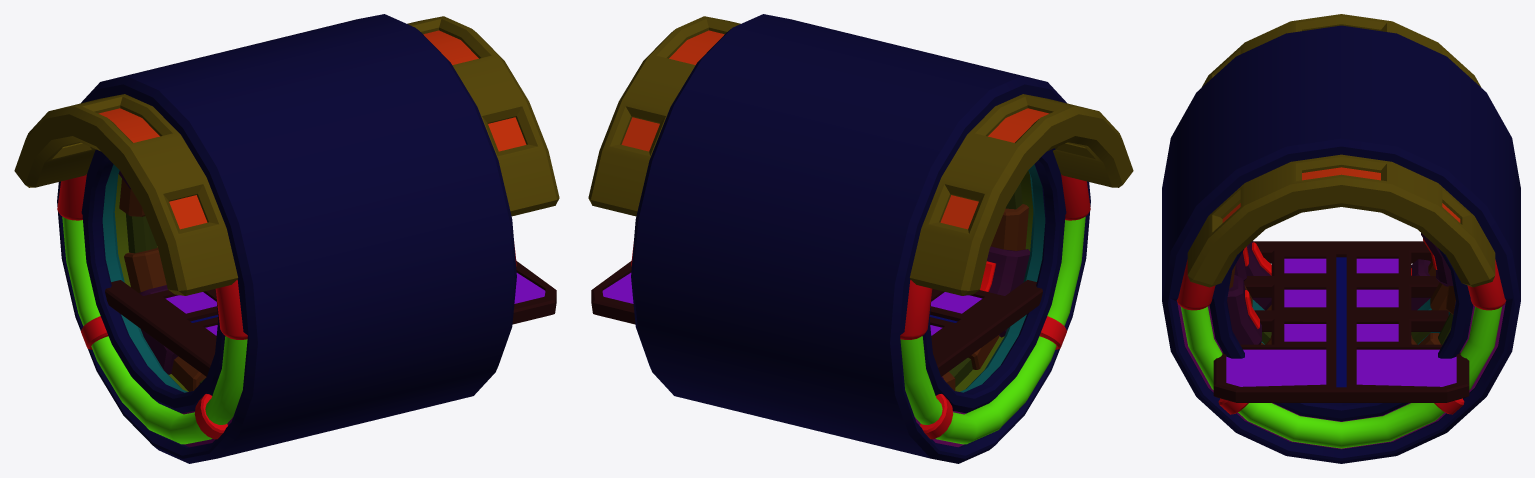
The model's file is Porte_Hub_Maxime.fbx.
3 renders of one model, left to right at view 1: azimuth 30°, elevation 25°; view 2: azimuth 150°, elevation 25°; view 3: azimuth 270°, elevation 25°, orthographic. The views are drawn at different scales.
Visible parts, largest first — view 1: Porte, Anneau_1; view 2: Porte, Anneau_1; view 3: Porte, Anneau_3, Anneau_1, Anneau_2.
Boxes of the visible parts, x1,y1,x2,y2 form: Porte: [14, 14, 559, 463]; Anneau_1: [118, 170, 206, 391]; Porte: [588, 14, 1133, 463]; Anneau_1: [941, 183, 1029, 390]; Porte: [1162, 14, 1520, 463]; Anneau_3: [1227, 233, 1455, 344]; Anneau_1: [1247, 241, 1435, 310]; Anneau_2: [1234, 246, 1448, 344].
Bounding box in the file's own units: 16.35 × 14 × 14.
